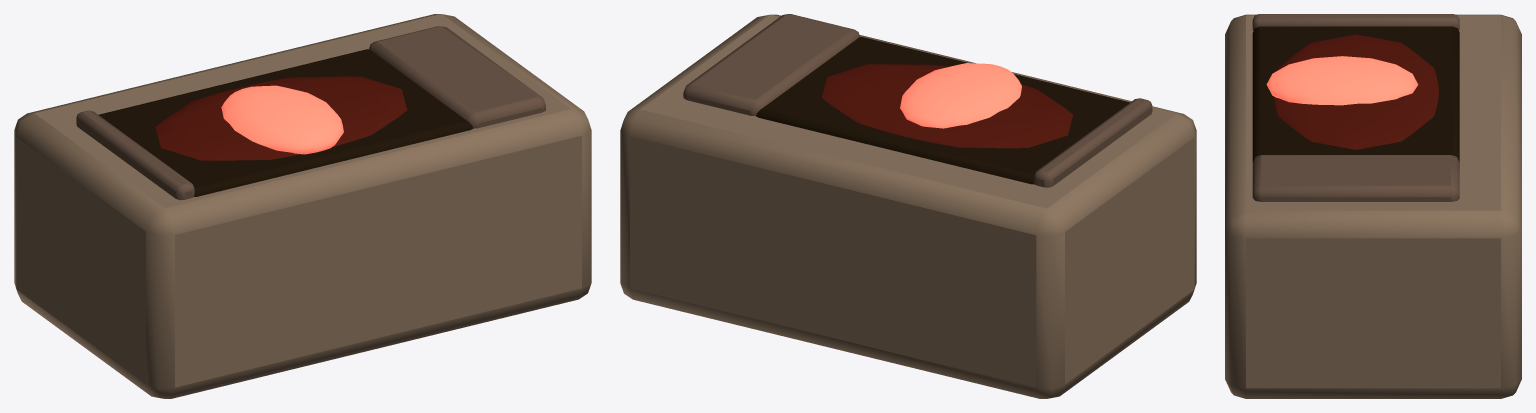
Rendered from rig_hatch_237.glb.
3 views of the same model, side by side, from view 1: azimuth 30°, elevation 25°; view 2: azimuth 150°, elevation 25°; view 3: azimuth 270°, elevation 25° (orthographic).
Parts seen in each view (by area): view 1: hatch_box, hatch_slit, hatch_glow, hatch_door1, hatch_light, hatch_door0; view 2: hatch_box, hatch_slit, hatch_glow, hatch_door1, hatch_light, hatch_door0; view 3: hatch_box, hatch_slit, hatch_door1, hatch_glow, hatch_light, hatch_door0.
Boxes of the visible parts, x1,y1,x2,y2 form: hatch_box: [14, 14, 591, 398]; hatch_slit: [98, 49, 473, 196]; hatch_glow: [155, 76, 407, 160]; hatch_door1: [369, 26, 545, 128]; hatch_light: [221, 85, 343, 154]; hatch_door0: [76, 110, 194, 200]; hatch_box: [620, 14, 1196, 398]; hatch_slit: [756, 37, 1129, 184]; hatch_glow: [822, 64, 1073, 148]; hatch_door1: [683, 14, 859, 115]; hatch_light: [900, 63, 1021, 128]; hatch_door0: [1034, 98, 1152, 187]; hatch_box: [1225, 14, 1521, 398]; hatch_slit: [1252, 26, 1459, 162]; hatch_door1: [1252, 155, 1459, 201]; hatch_glow: [1273, 34, 1438, 149]; hatch_light: [1266, 56, 1418, 105]; hatch_door0: [1252, 14, 1459, 30].
Size of the model in its own units: 14.6 by 6.89 by 8.6.
